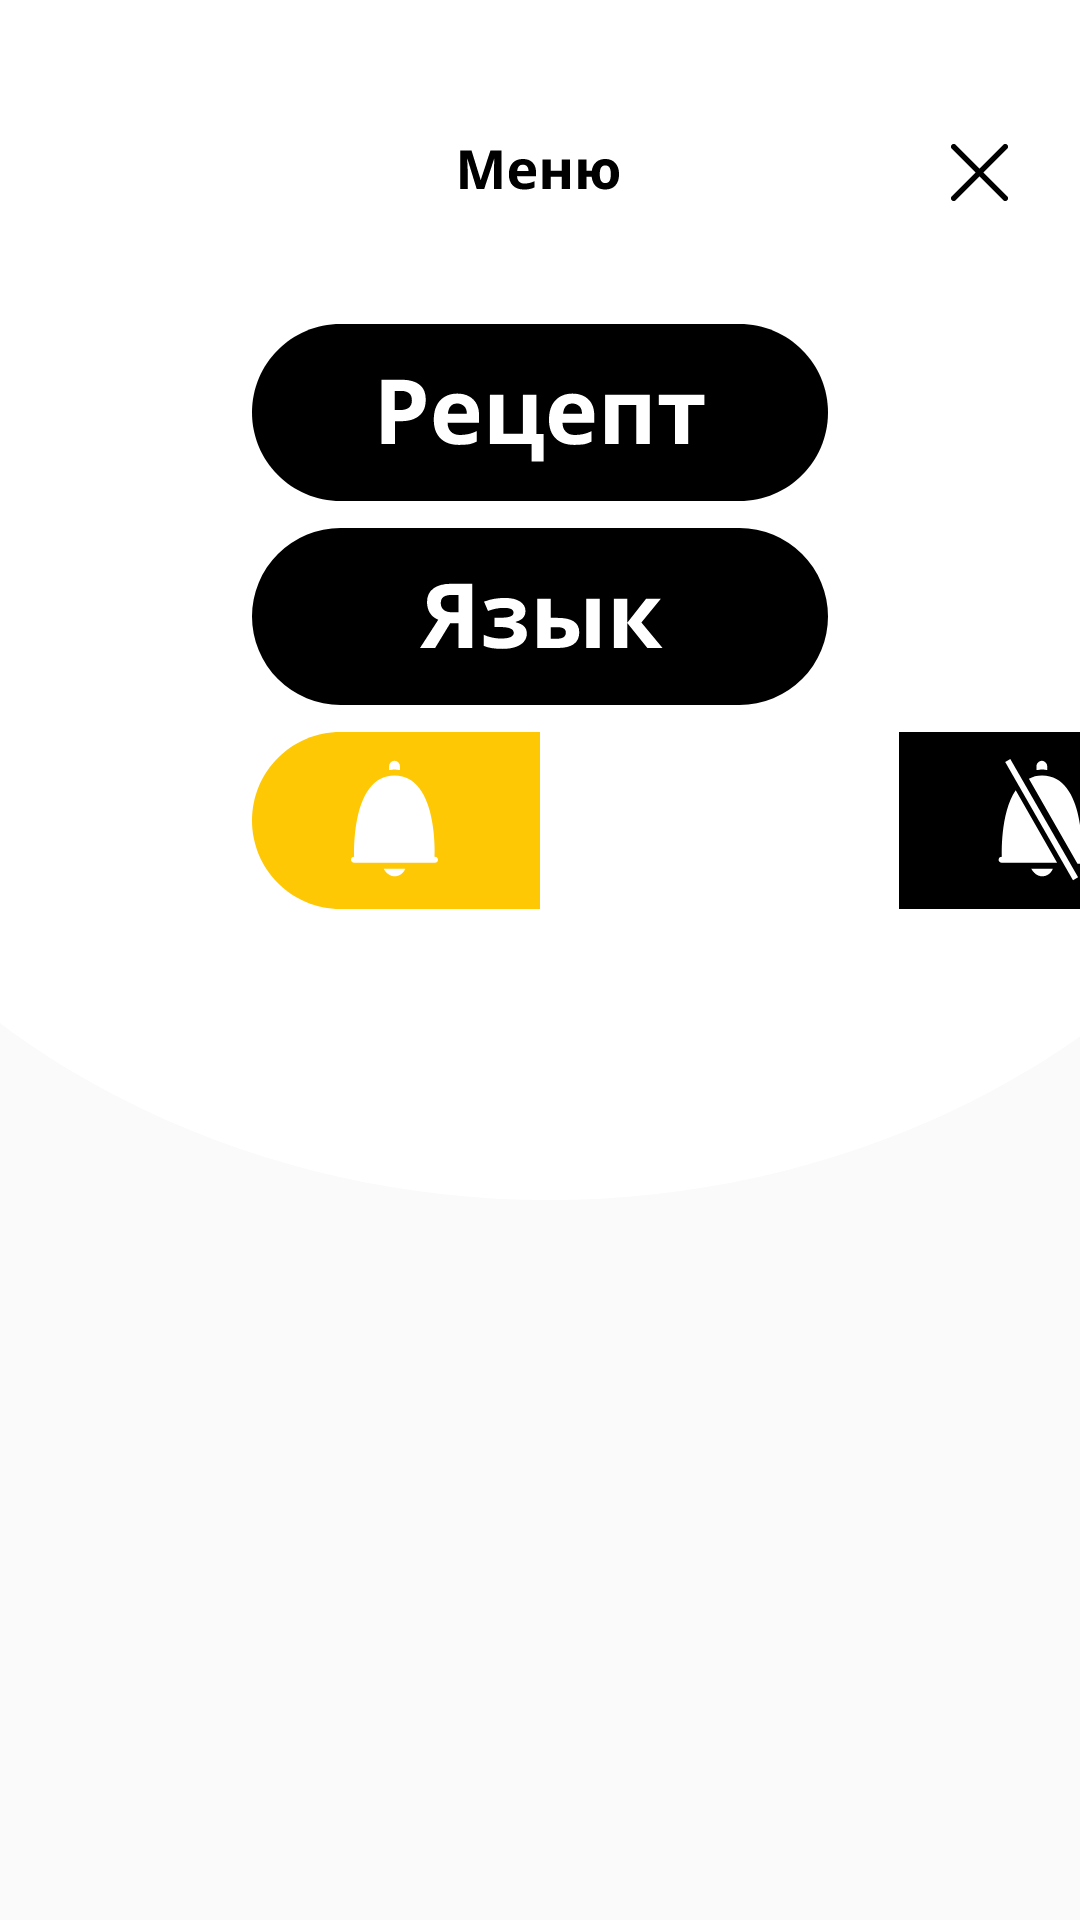

Where to tap for icons on this 1080w x 1920h app screen, as (x=x, y=y):
exit: (x=979, y=172)
